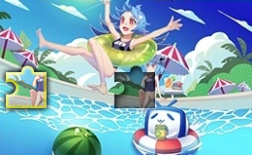gap: (114, 65, 155, 108)
